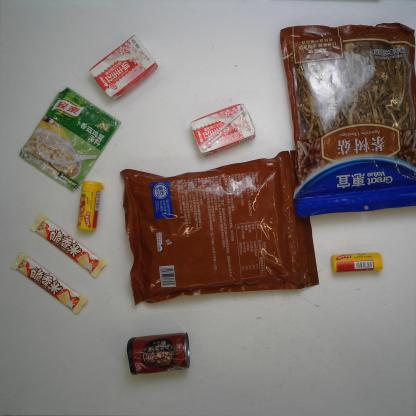Candy: (75, 179, 105, 233), (332, 250, 384, 275)
Canned Food: (126, 332, 190, 378)
Chocolate: (29, 212, 107, 277), (11, 252, 88, 315)
Dried Food: (119, 147, 322, 306), (278, 20, 416, 221)
Milk: (90, 34, 158, 102), (191, 103, 256, 157)
Seasoner: (18, 87, 121, 192)
